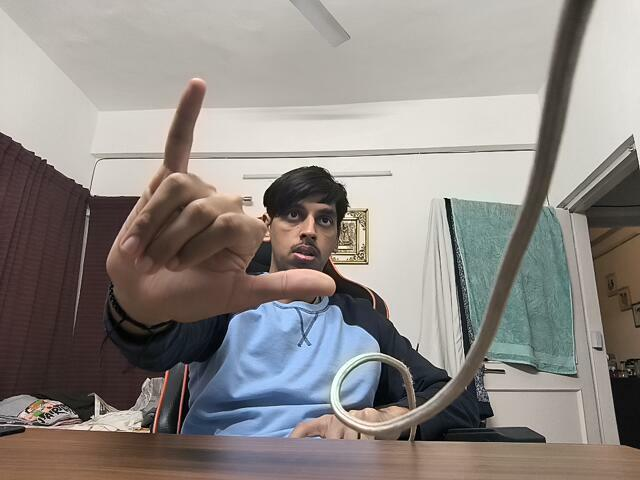FLIP: (102, 69, 341, 335)
